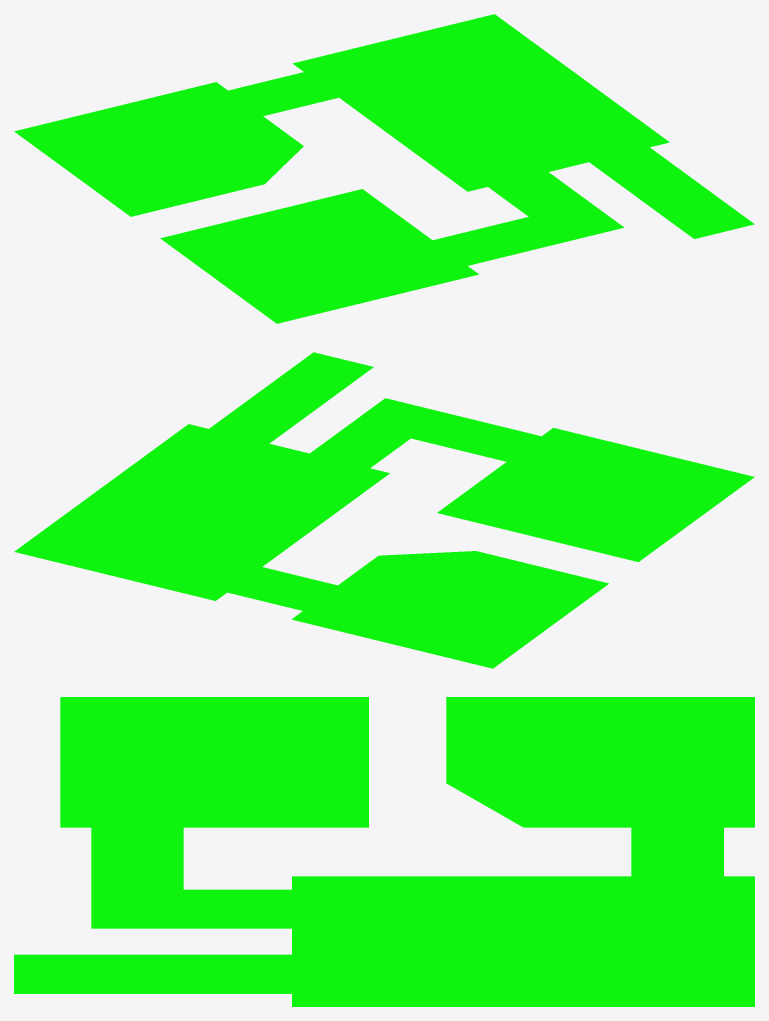
File: s05a_nc2-floor.glb
The picture shows the model from 3 angles, top to bottom: view 1: azimuth 30°, elevation 25°; view 2: azimuth 150°, elevation 25°; view 3: azimuth 270°, elevation 25°; orthographic projection. The views are drawn at different scales.
Parts seen in each view (by area): view 1: collision_floor-colonly; view 2: collision_floor-colonly; view 3: collision_floor-colonly.
Boxes of the visible parts, <box> form: collision_floor-colonly: <box>14,14,754,323</box>; collision_floor-colonly: <box>14,352,754,668</box>; collision_floor-colonly: <box>14,697,754,1006</box>.
Size of the model in its own units: 47.5 by 0 by 48.
